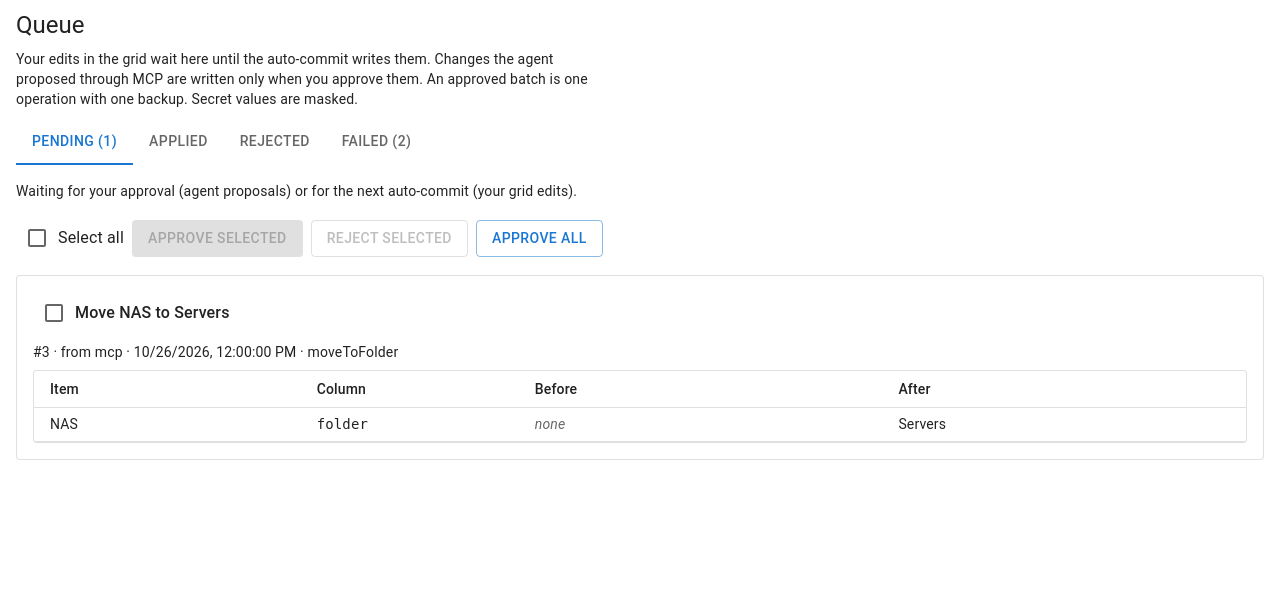
dismiss deletes a failed entry, only failed entries have the button
Expected: the element with test id "queue-entry-3" is shown, left=16, top=276, right=1264, bottom=460
Expected: the button "Dismiss" is not shown
Click the tab "Failed (2)". click: (377, 142)
box: left=326, top=118, right=427, bottom=166
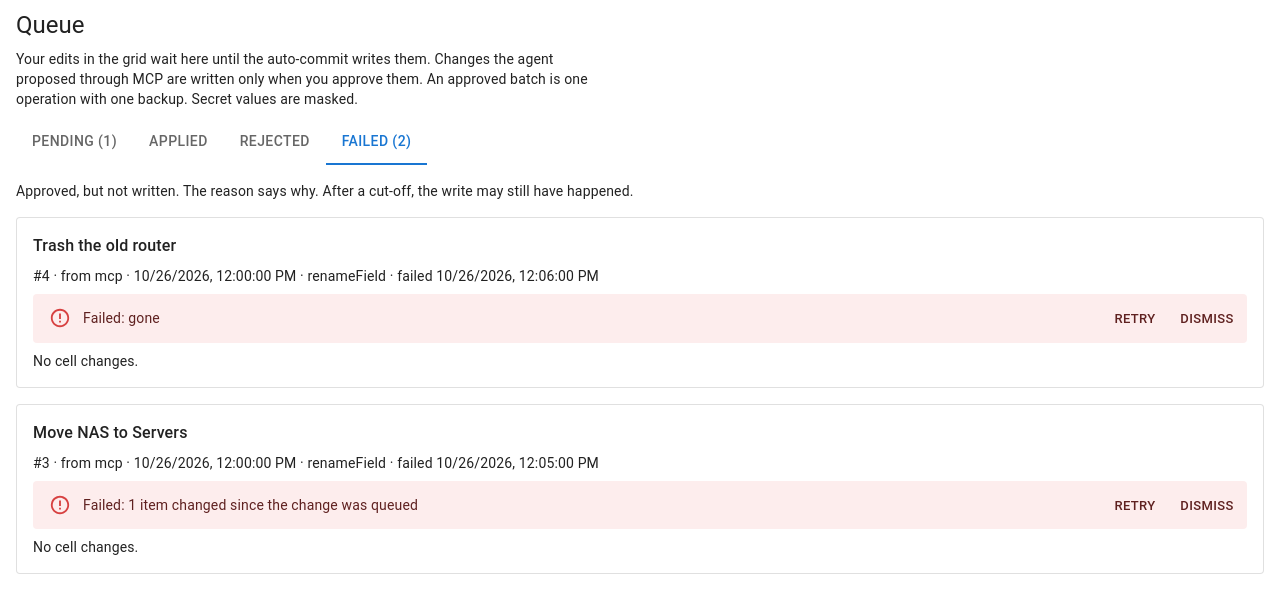
Click the 2nd button "Dismiss". click: (1207, 506)
box: left=1175, top=490, right=1239, bottom=521
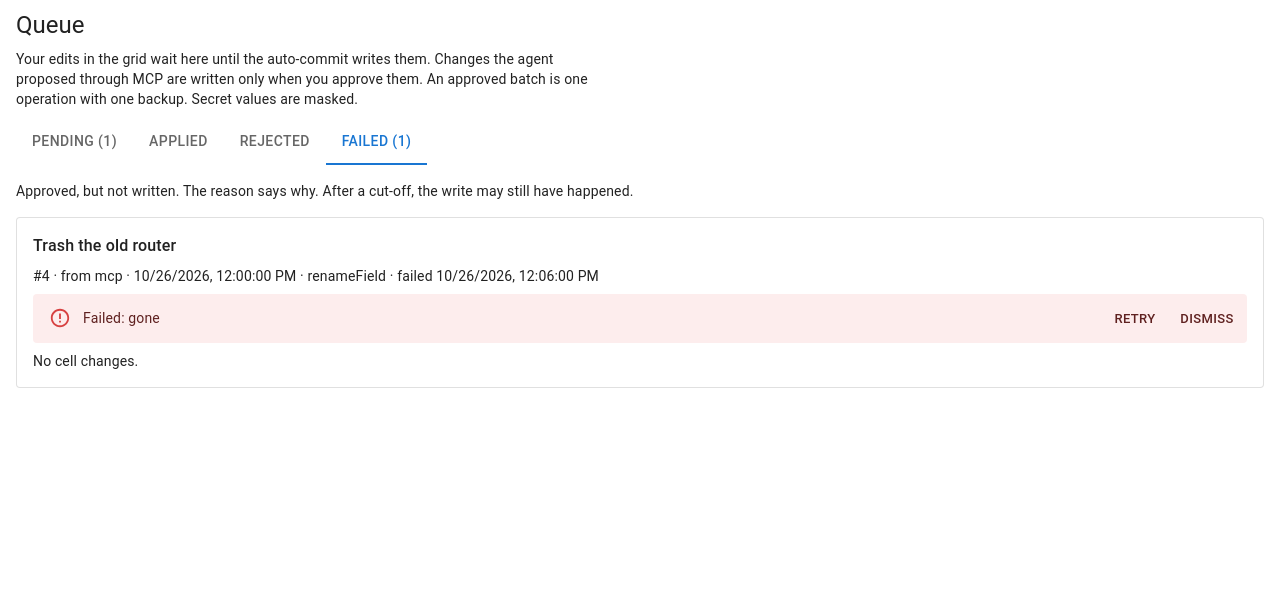
Now the element with test id "queue-entry-4" is shown, box left=16, top=218, right=1264, bottom=388
Now the element with test id "queue-entry-3" is gone
